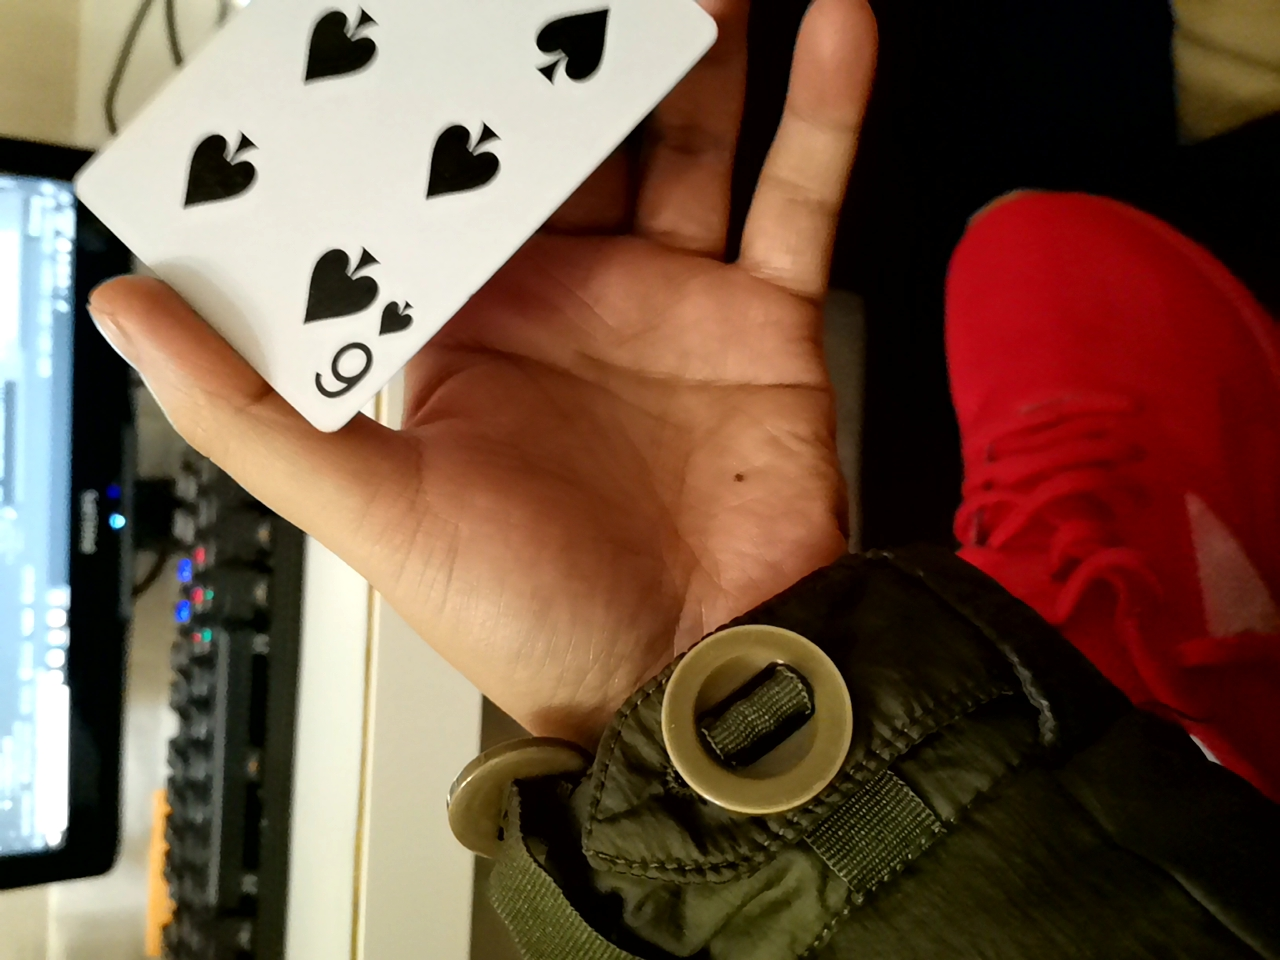ht 6: (31, 1, 761, 429)
